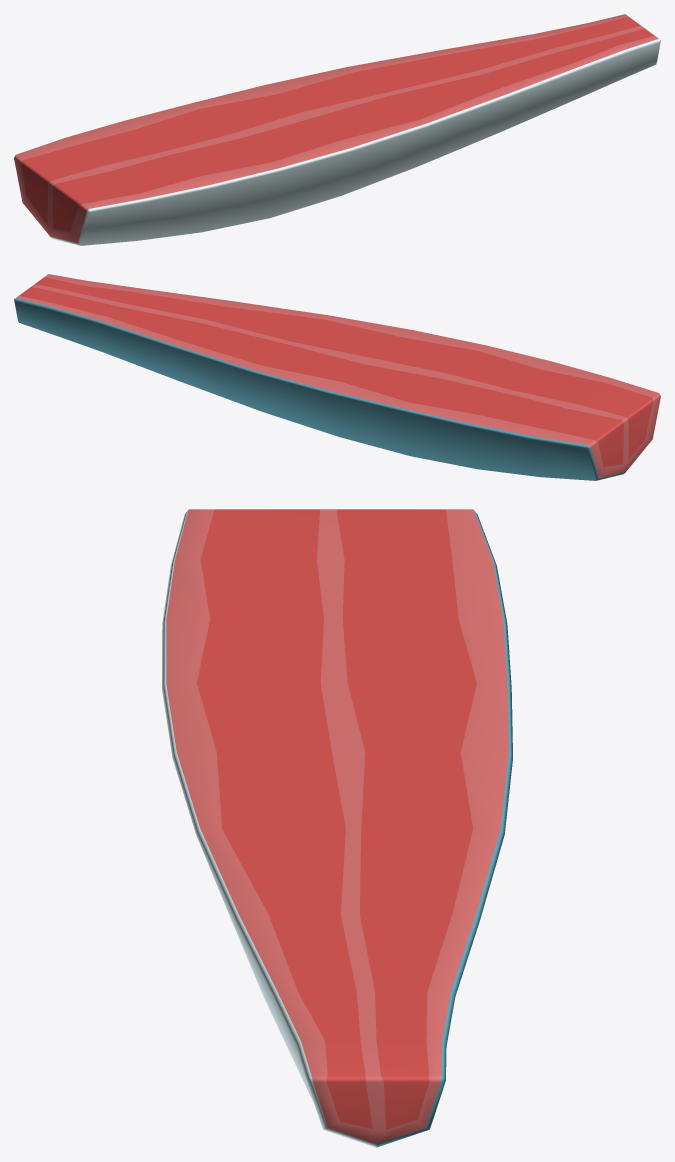
The model's file is Anchovy_1_Fillet_1.fbx.
3 views of the same model, one above another, from view 1: azimuth 30°, elevation 25°; view 2: azimuth 150°, elevation 25°; view 3: azimuth 270°, elevation 25° (orthographic). The views are drawn at different scales.
Parts seen in each view (by area): view 1: Anchovy_1_Fillet_1; view 2: Anchovy_1_Fillet_1; view 3: Anchovy_1_Fillet_1.
Part boxes in pixels (left/top/right/bottom): Anchovy_1_Fillet_1: left=14, top=14, right=660, bottom=245; Anchovy_1_Fillet_1: left=14, top=274, right=660, bottom=480; Anchovy_1_Fillet_1: left=162, top=509, right=512, bottom=1147.
Size of the model in its own units: 13.04 by 1.57 by 3.39.
